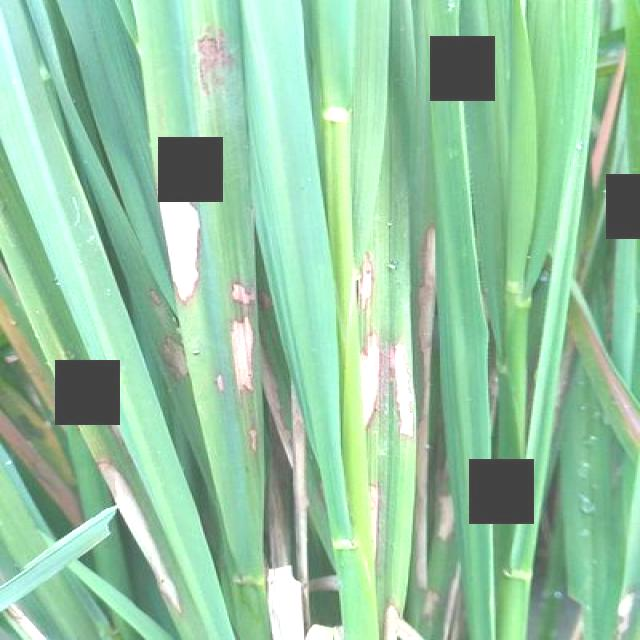Bacterial_Leaf_Blight: (157, 182, 256, 396), (356, 248, 415, 566), (96, 420, 182, 616), (412, 225, 433, 594), (586, 322, 640, 459), (426, 496, 456, 620)
